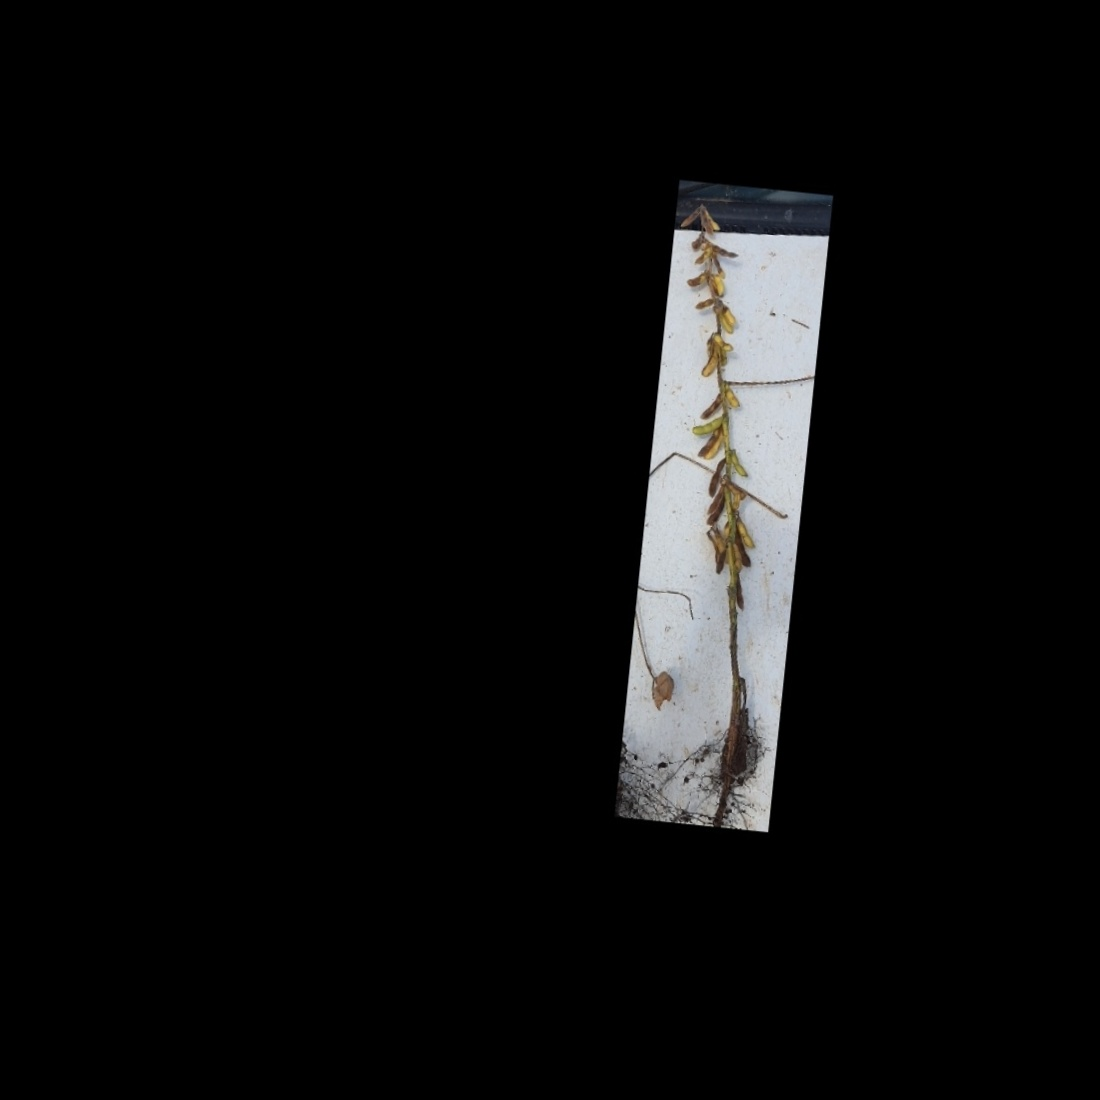pod: (725, 444, 755, 482), (703, 456, 727, 501), (690, 410, 723, 439), (734, 516, 761, 551), (699, 389, 723, 421), (731, 574, 750, 613), (677, 201, 701, 232), (721, 381, 744, 411), (708, 240, 740, 260), (684, 268, 708, 290), (708, 256, 729, 281), (692, 295, 716, 313)
soy: (620, 194, 827, 806)
